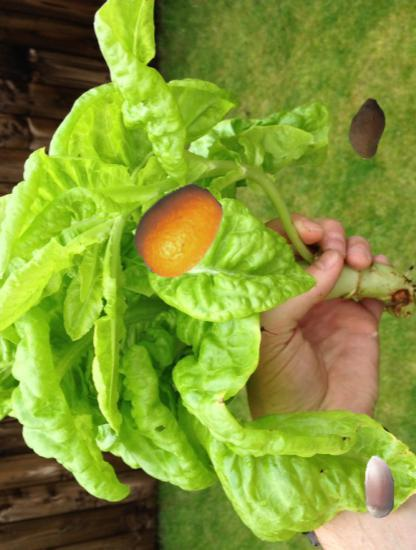Hazelnut: (347, 455, 411, 519)
Kumquats: (131, 182, 229, 280)
Potato: (336, 97, 398, 159)
